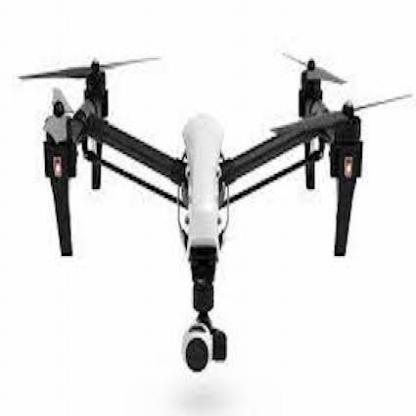UAS: (19, 49, 413, 373)
